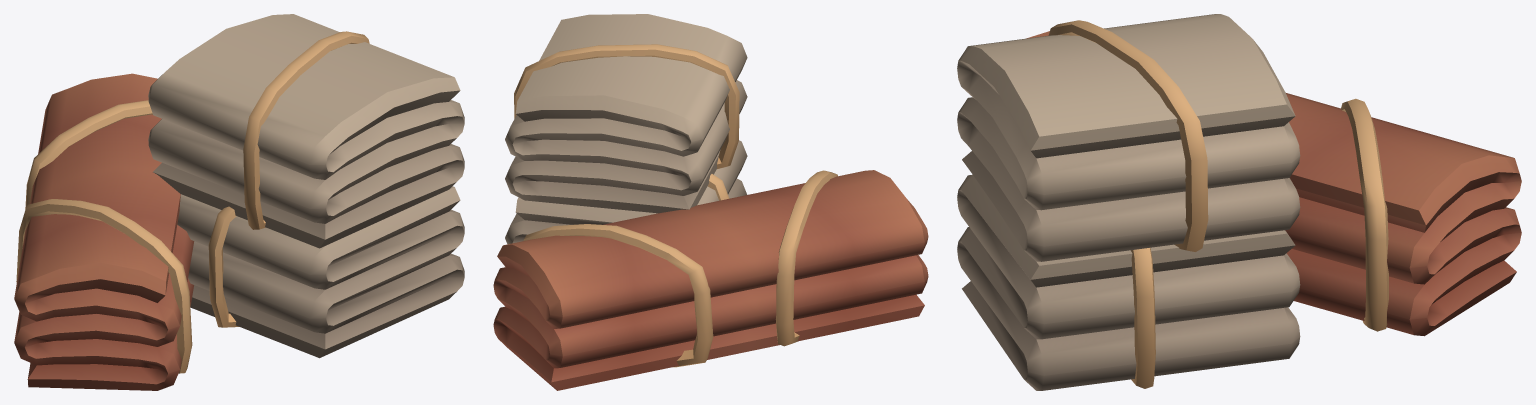
The model's file is Textiles_Stack_Small.glb.
3 views of the same model, side by side, from view 1: azimuth 30°, elevation 25°; view 2: azimuth 150°, elevation 25°; view 3: azimuth 270°, elevation 25° (orthographic). The views are drawn at different scales.
Parts seen in each view (by area): view 1: Textiles_Stack_Small; view 2: Textiles_Stack_Small; view 3: Textiles_Stack_Small.
Part boxes in pixels (x1,y1,x2,y2): Textiles_Stack_Small: (14,14,464,390); Textiles_Stack_Small: (493,14,928,390); Textiles_Stack_Small: (957,14,1521,390).
Bounding box in the file's own units: 1.66 × 0.9318 × 1.59.
Materials: 1 (1 with a texture image).
